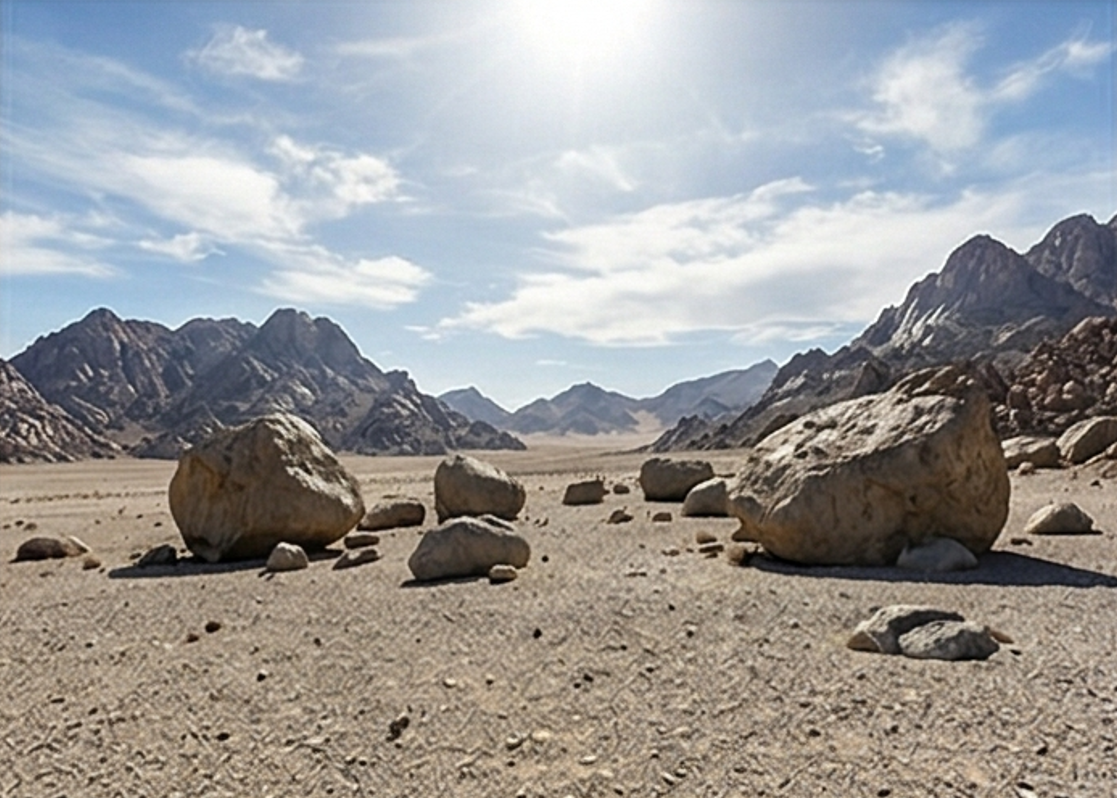rocks: (638, 367, 1008, 571), (170, 414, 425, 569), (408, 455, 530, 580), (849, 607, 996, 658), (1028, 503, 1094, 533), (17, 537, 87, 560), (562, 479, 605, 505)
